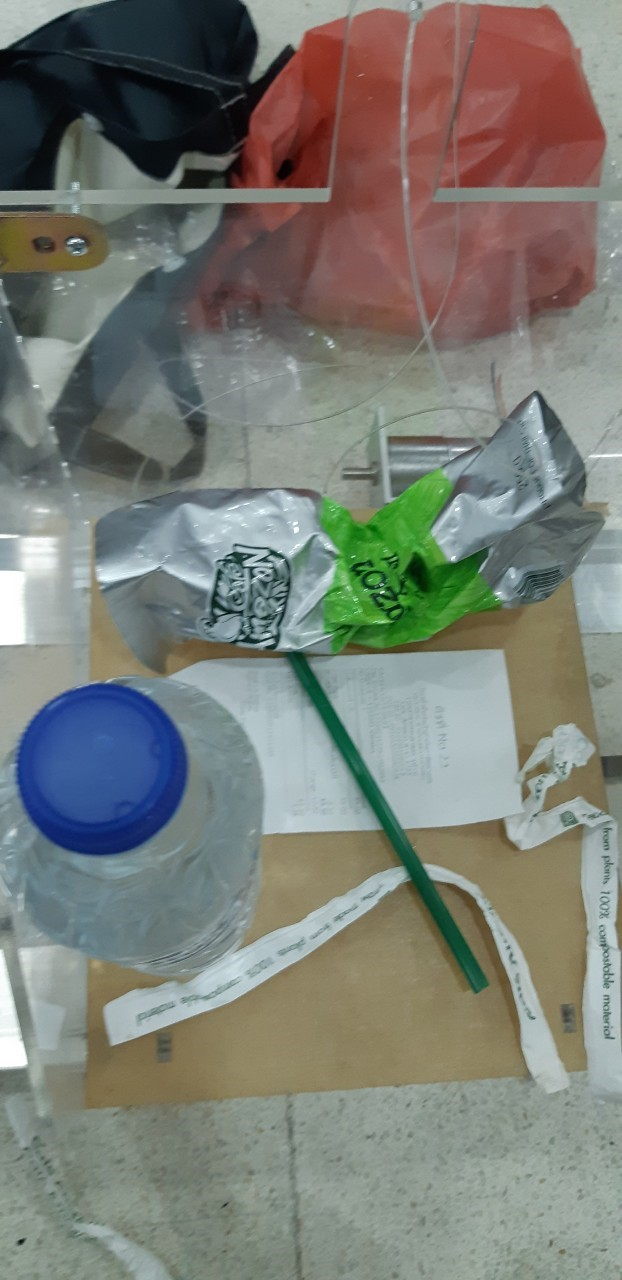Others: (94, 393, 600, 673), (98, 865, 566, 1103), (288, 639, 480, 993), (178, 655, 518, 839), (514, 723, 622, 1093)
PlasticBottle: (6, 675, 258, 977)
